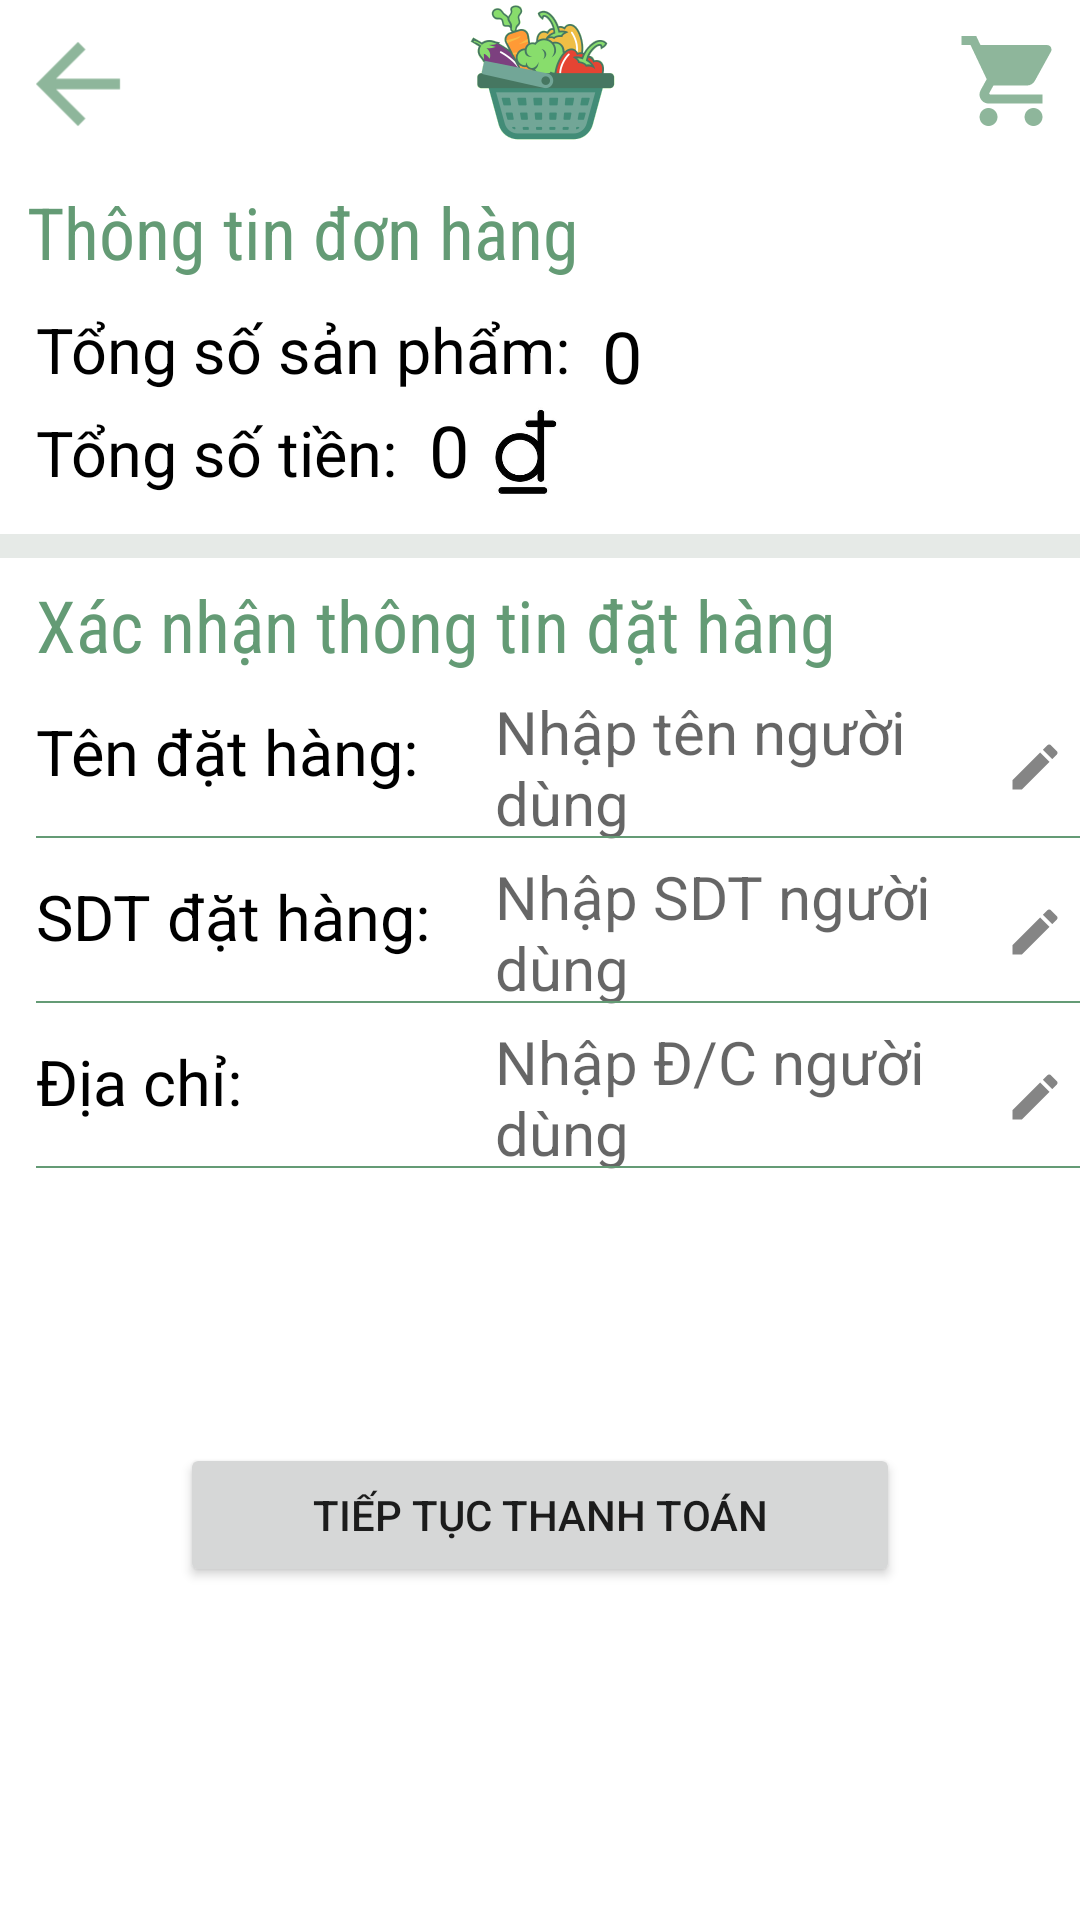

Icon click points for this 1080w x 1920h phone screenshot, format [x,y]:
back: [78,84]
cart home: [1006,81]
